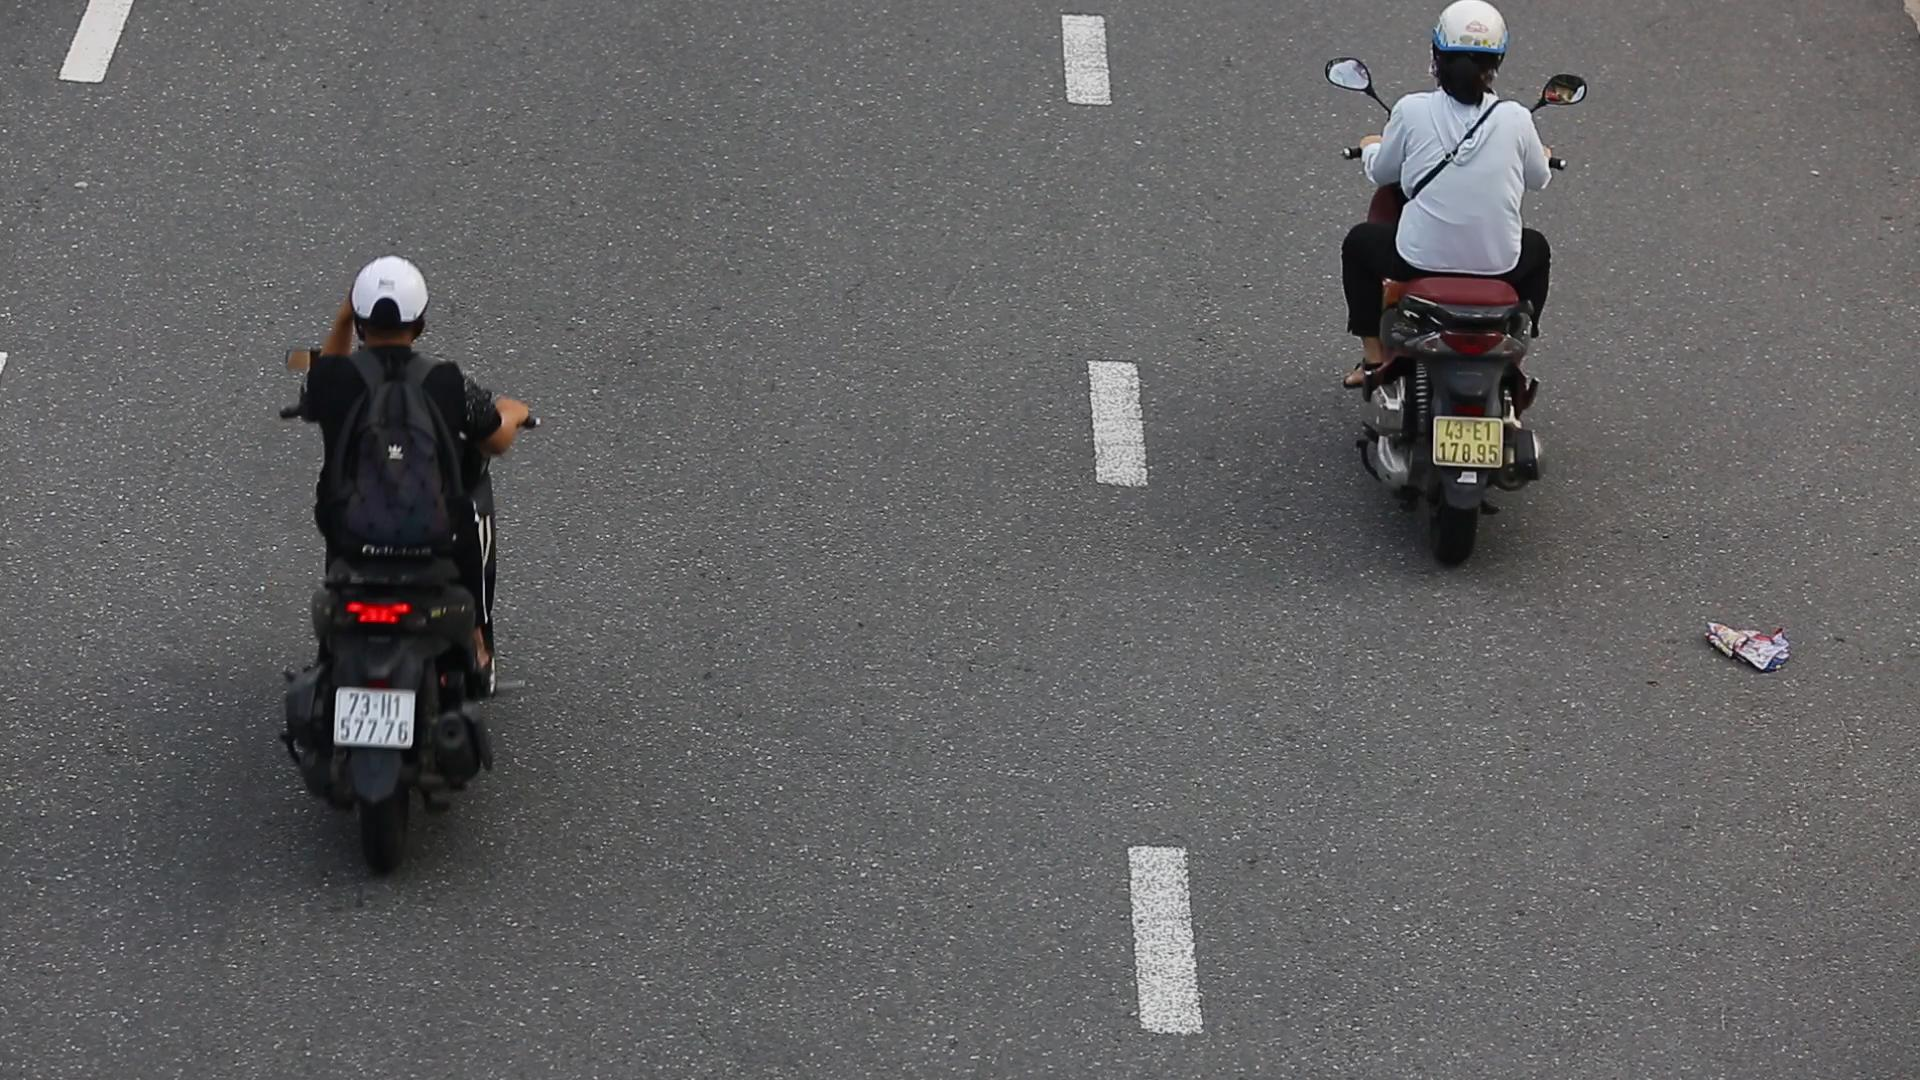motobike: (247, 231, 556, 891), (1312, 0, 1610, 583)
